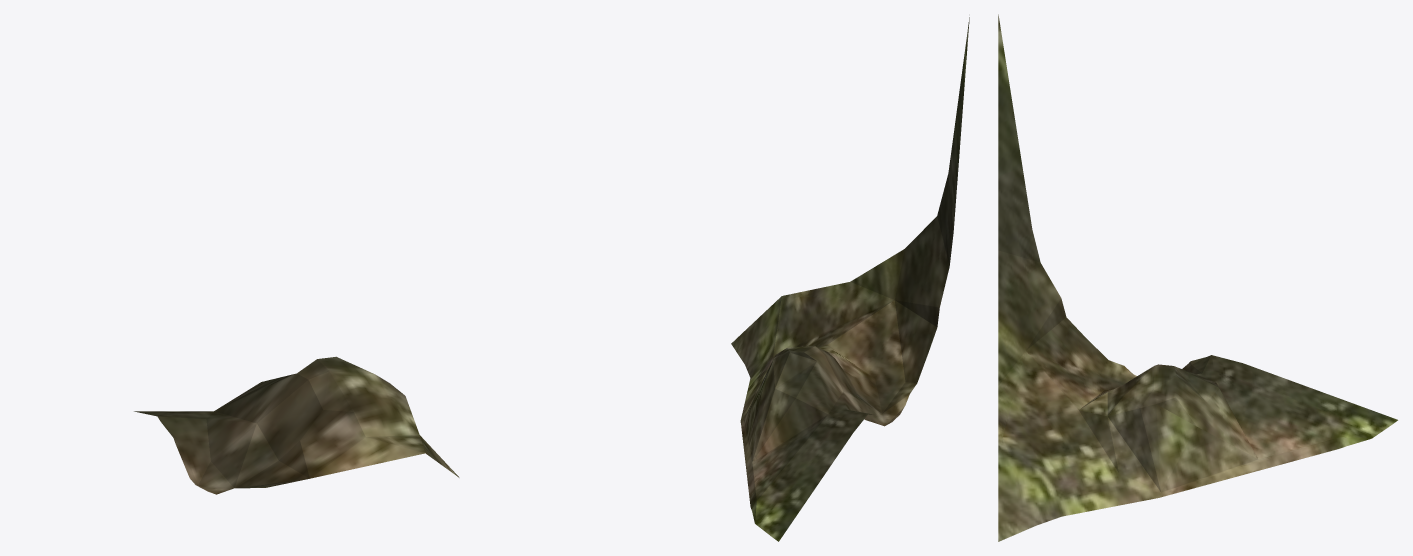
3 views of the same model, side by side, from view 1: azimuth 30°, elevation 25°; view 2: azimuth 150°, elevation 25°; view 3: azimuth 270°, elevation 25° (orthographic). The views are drawn at different scales.
Bounding box in the file's own units: 1.43 × 2.21 × 1.98.
Materials: 1 (1 with a texture image).
